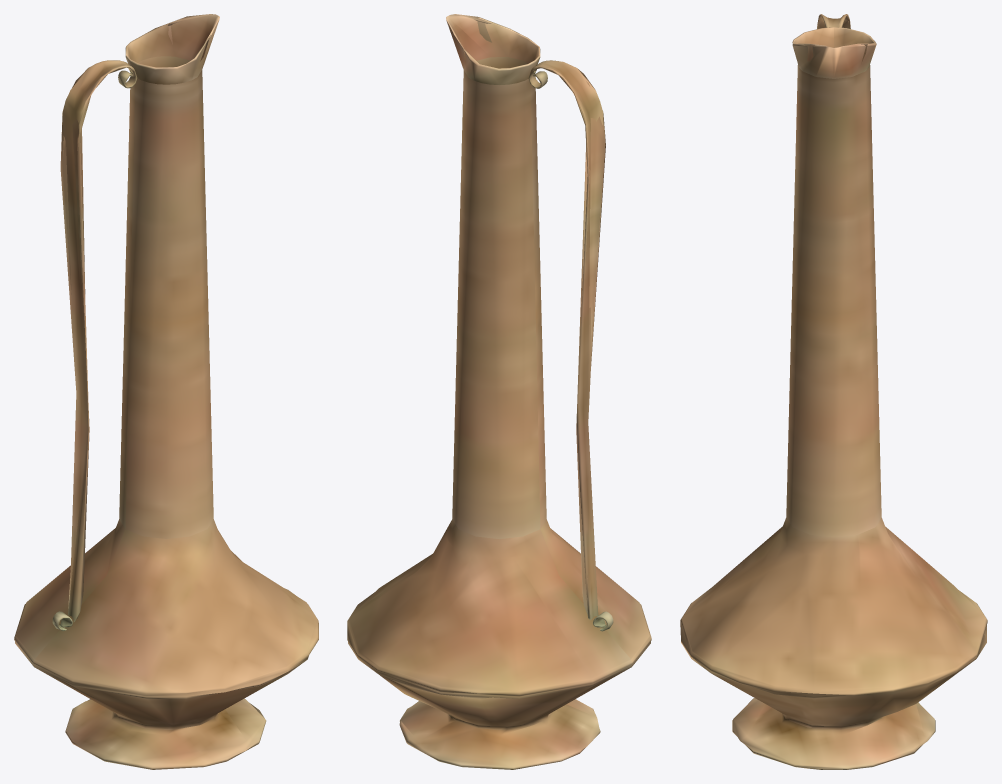
3 renders of one model, left to right at view 1: azimuth 30°, elevation 25°; view 2: azimuth 150°, elevation 25°; view 3: azimuth 270°, elevation 25°, orthographic.
Parts seen in each view (by area): view 1: brass_vase_02; view 2: brass_vase_02; view 3: brass_vase_02.
Part boxes in pixels (<box>): brass_vase_02: <box>14,14,318,769</box>; brass_vase_02: <box>347,14,651,769</box>; brass_vase_02: <box>680,14,987,769</box>.
Size of the model in its own units: 0.2093 by 0.5286 by 0.2084.
Materials: 1 (1 with a texture image).
